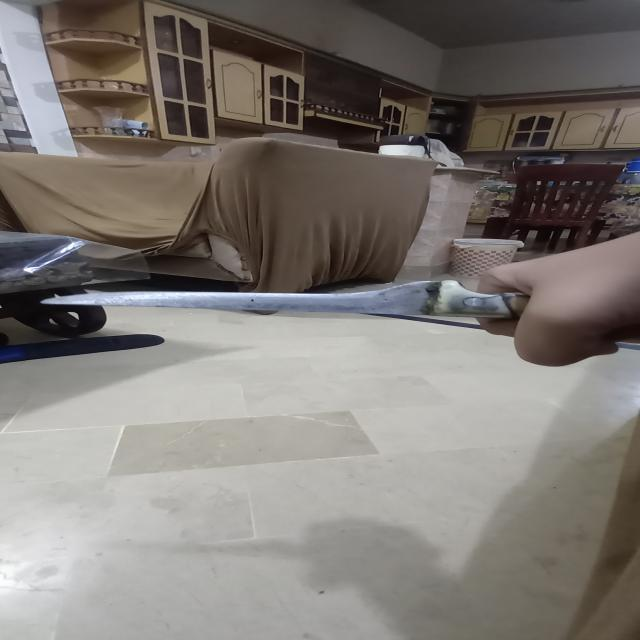Knife: (29, 268, 640, 349)
